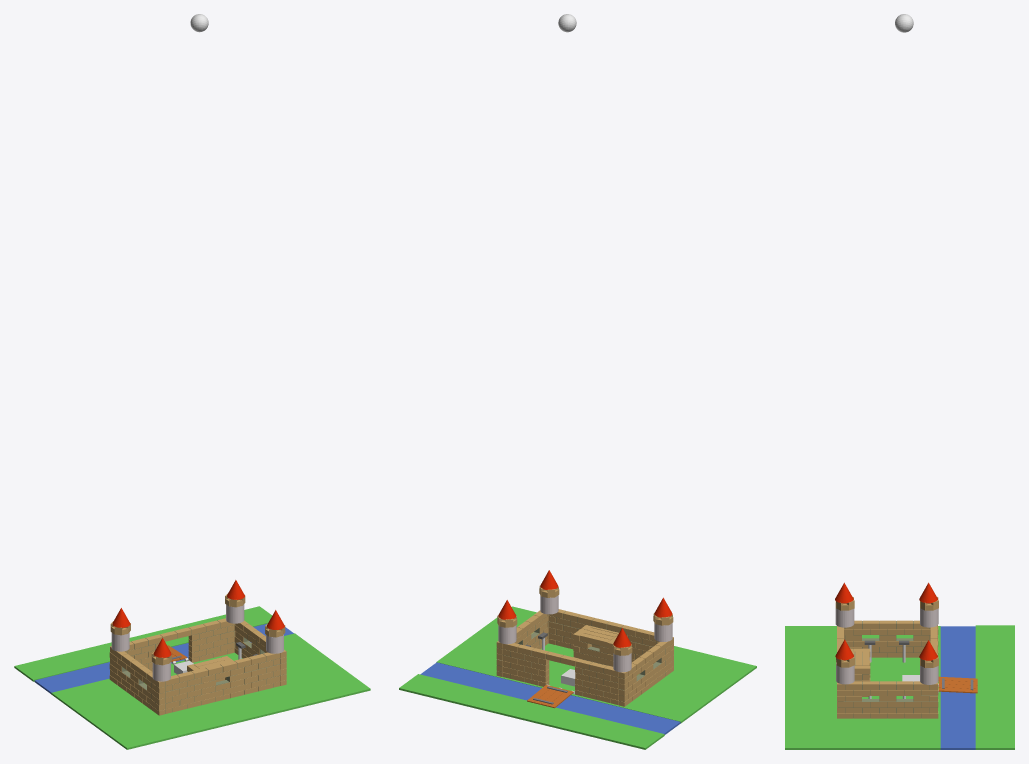
Rendered from castillo.glb.
3 renders of one model, left to right at view 1: azimuth 30°, elevation 25°; view 2: azimuth 150°, elevation 25°; view 3: azimuth 270°, elevation 25°, orthographic. The views are drawn at different scales.
Visible parts, largest first — view 1: Cube.184_Cube.187, Cube.185_Cube.188, Cube.196_Cube.199; view 2: Cube.184_Cube.187, Cube.185_Cube.188, Cube.196_Cube.199; view 3: Cube.184_Cube.187, Cube.185_Cube.188, Cube.196_Cube.199.
Boxes of the visible parts, x1,y1,x2,y2 form: Cube.184_Cube.187: [51, 633, 370, 749]; Cube.185_Cube.188: [14, 606, 272, 681]; Cube.196_Cube.199: [34, 624, 293, 693]; Cube.184_Cube.187: [436, 606, 756, 723]; Cube.185_Cube.188: [399, 674, 664, 749]; Cube.196_Cube.199: [420, 662, 680, 734]; Cube.184_Cube.187: [785, 626, 940, 749]; Cube.185_Cube.188: [975, 625, 1014, 749]; Cube.196_Cube.199: [940, 626, 975, 749].
Bounding box in the file's own units: 31.07 × 80.85 × 24.55.
